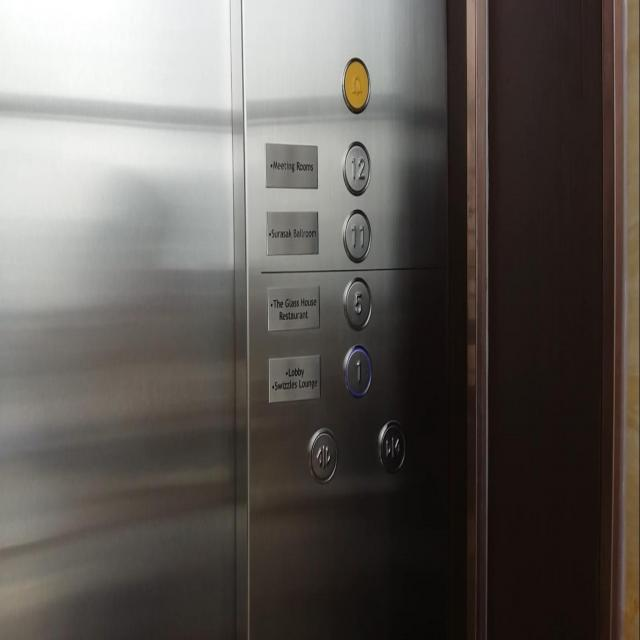1: (342, 342, 373, 398)
11: (342, 206, 372, 265)
12: (342, 140, 372, 195)
5: (342, 276, 372, 332)
alarm: (341, 51, 372, 117)
close: (376, 416, 406, 475)
open: (307, 426, 338, 484)
